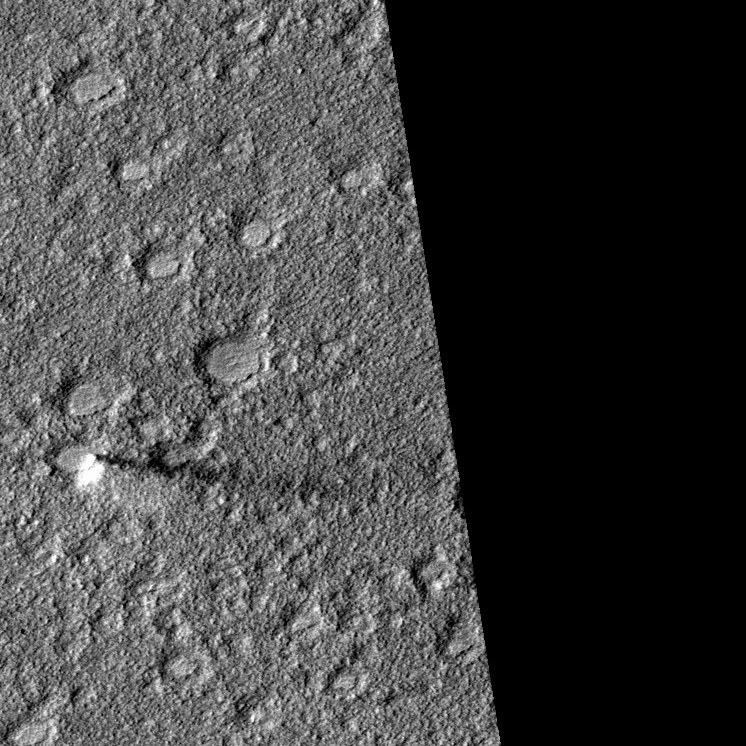dust_devil: (73, 452, 245, 495)
